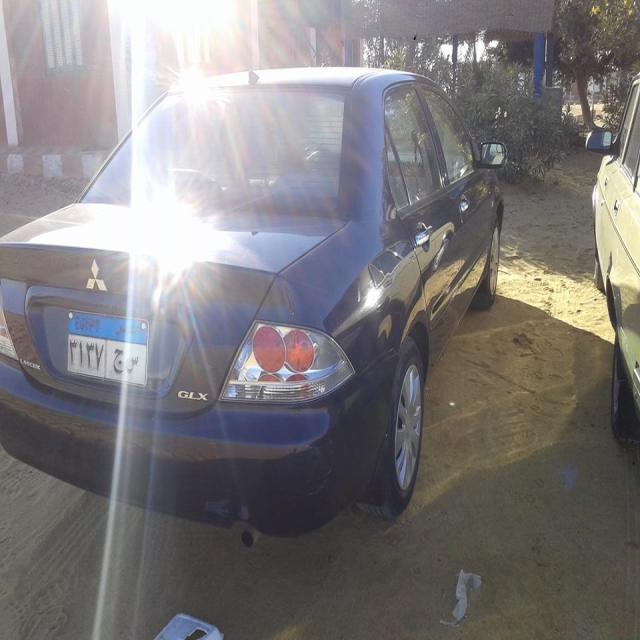License Plate: (63, 308, 151, 390)
